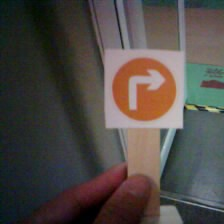right: (104, 47, 184, 127)
